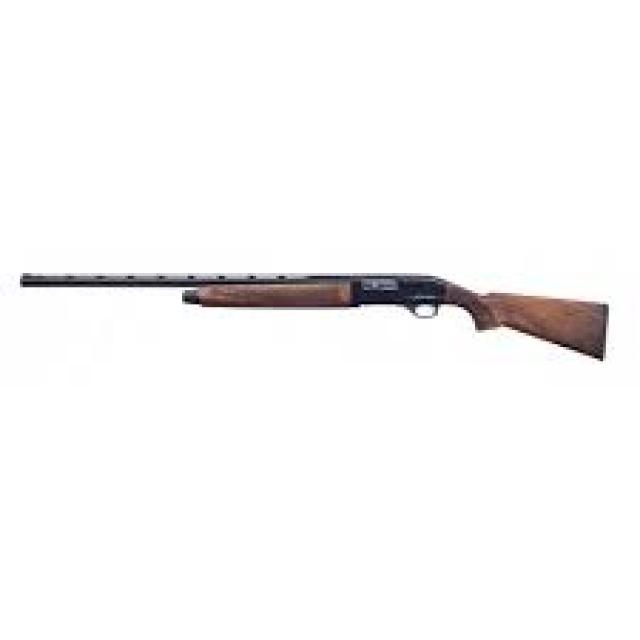rifle: (17, 259, 621, 370)
